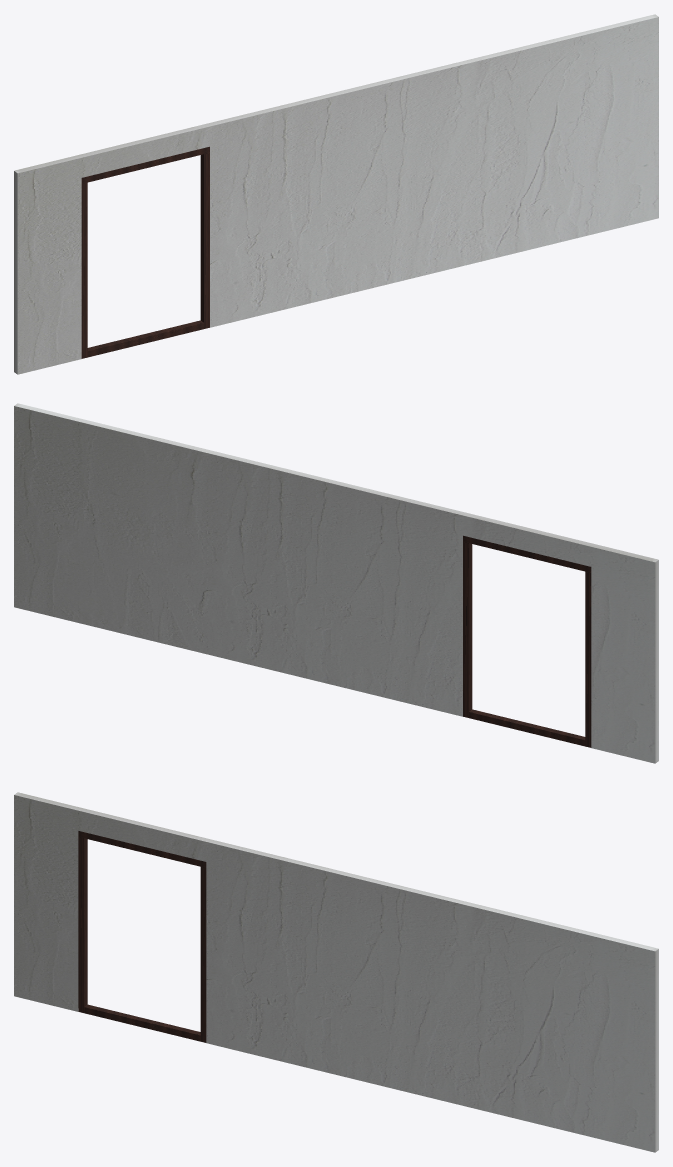
Rendered from DoorSidePanel.FBX.
The picture shows the model from 3 angles, top to bottom: view 1: azimuth 30°, elevation 25°; view 2: azimuth 150°, elevation 25°; view 3: azimuth 330°, elevation 25°; orthographic projection.
Visible parts, largest first — view 1: WallPanel, Box002, Box003, Box001, Box004; view 2: WallPanel, Box002, Box003, Box001, Box004; view 3: WallPanel, Box003, Box002, Box001, Box004.
Part boxes in pixels (x1,y1,x2,y2): WallPanel: (14, 14, 658, 374); Box002: (200, 153, 209, 328); Box003: (81, 182, 87, 358); Box001: (87, 320, 203, 357); Box004: (81, 146, 209, 183); WallPanel: (14, 403, 658, 763); Box002: (463, 542, 472, 717); Box003: (585, 571, 591, 747); Box001: (469, 709, 585, 746); Box004: (463, 535, 591, 572); WallPanel: (14, 792, 658, 1152); Box003: (78, 837, 87, 1012); Box002: (200, 867, 206, 1042); Box001: (84, 1004, 200, 1041); Box004: (78, 831, 206, 867).
Size of the model in its own units: 100 by 30 by 1.
2 materials, 2 textured.
